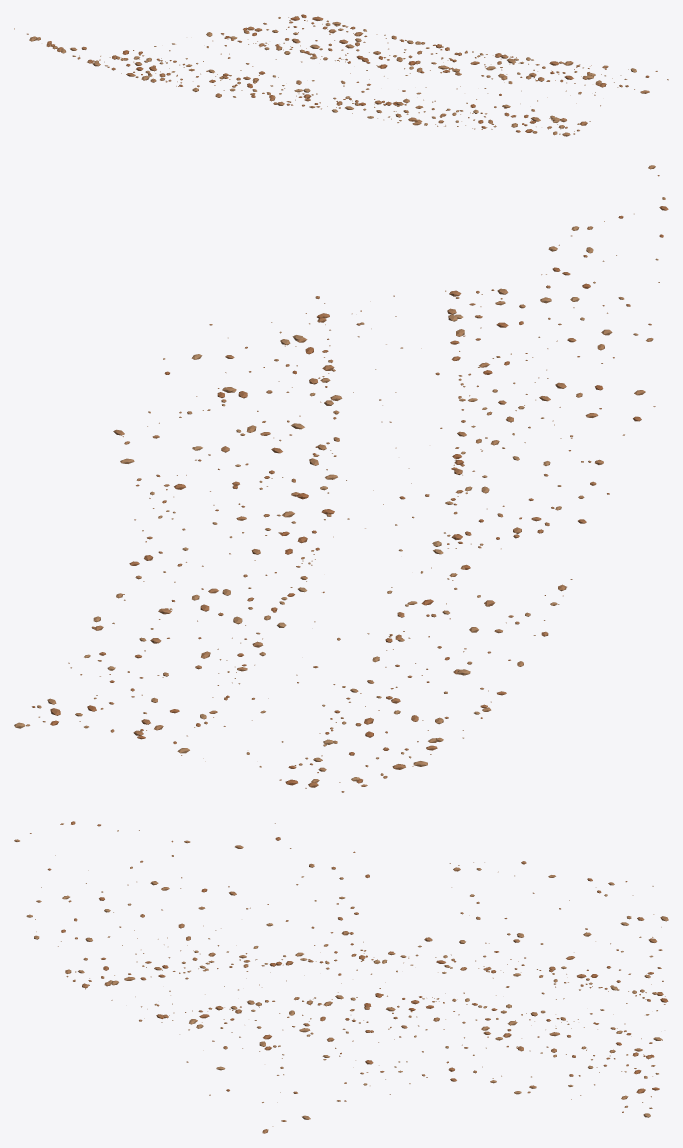
File: terrain-103.glb
The picture shows the model from 3 angles, top to bottom: view 1: azimuth 30°, elevation 25°; view 2: azimuth 150°, elevation 25°; view 3: azimuth 270°, elevation 25°; orthographic projection. The views are drawn at different scales.
Visible parts, largest first — view 1: terrain-103; view 2: terrain-103; view 3: terrain-103.
Part boxes in pixels (left/top/right/bottom): terrain-103: left=14, top=14, right=668, bottom=136; terrain-103: left=14, top=165, right=668, bottom=792; terrain-103: left=14, top=821, right=668, bottom=1133.
Size of the model in its own units: 53.52 by 23.98 by 67.93.
